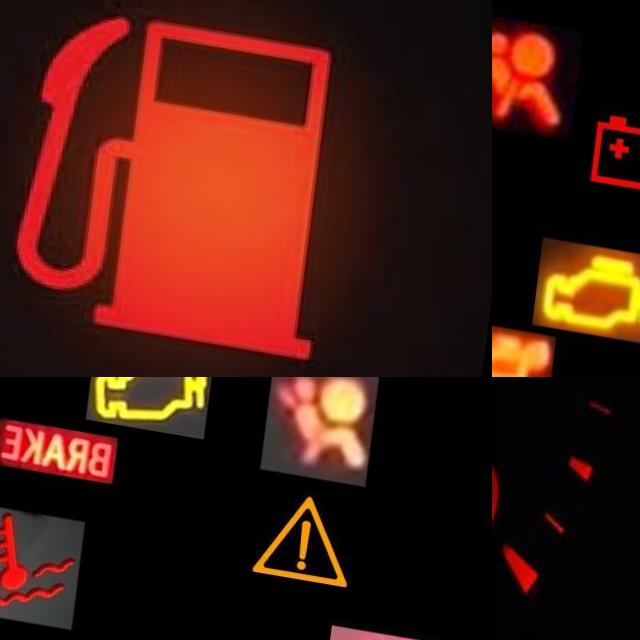Central Warning lamp: (245, 459, 374, 593)
Engine cooling system: (0, 501, 90, 625)
